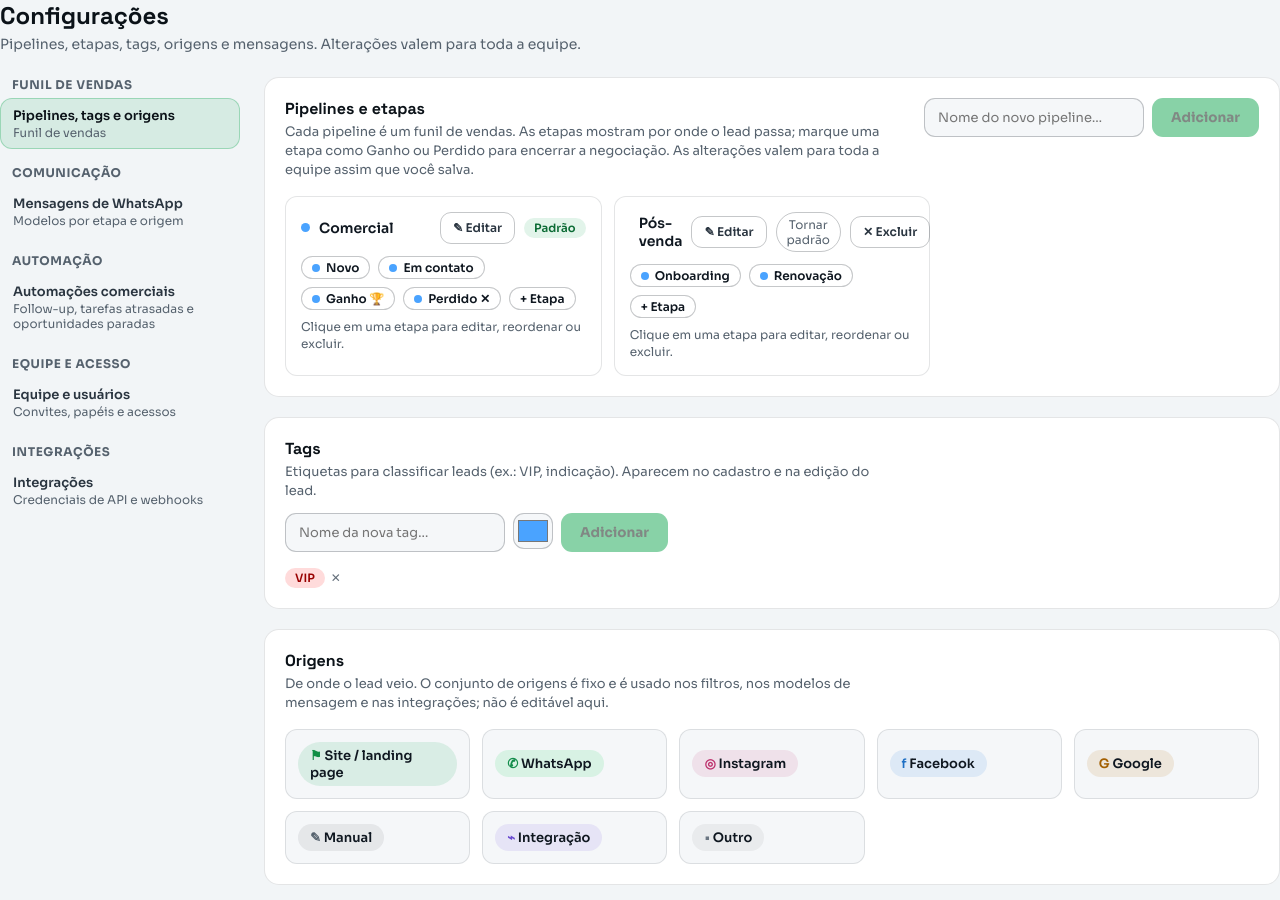
Test: F-25 etapas › etapa com leads: 409 do servidor vira toast com a orientação e nada é excluído da tela
Expected: the text "Comercial" is shown, [319,218,394,236]
Click the button "Novo" at (336,267), box [301,256,370,278]
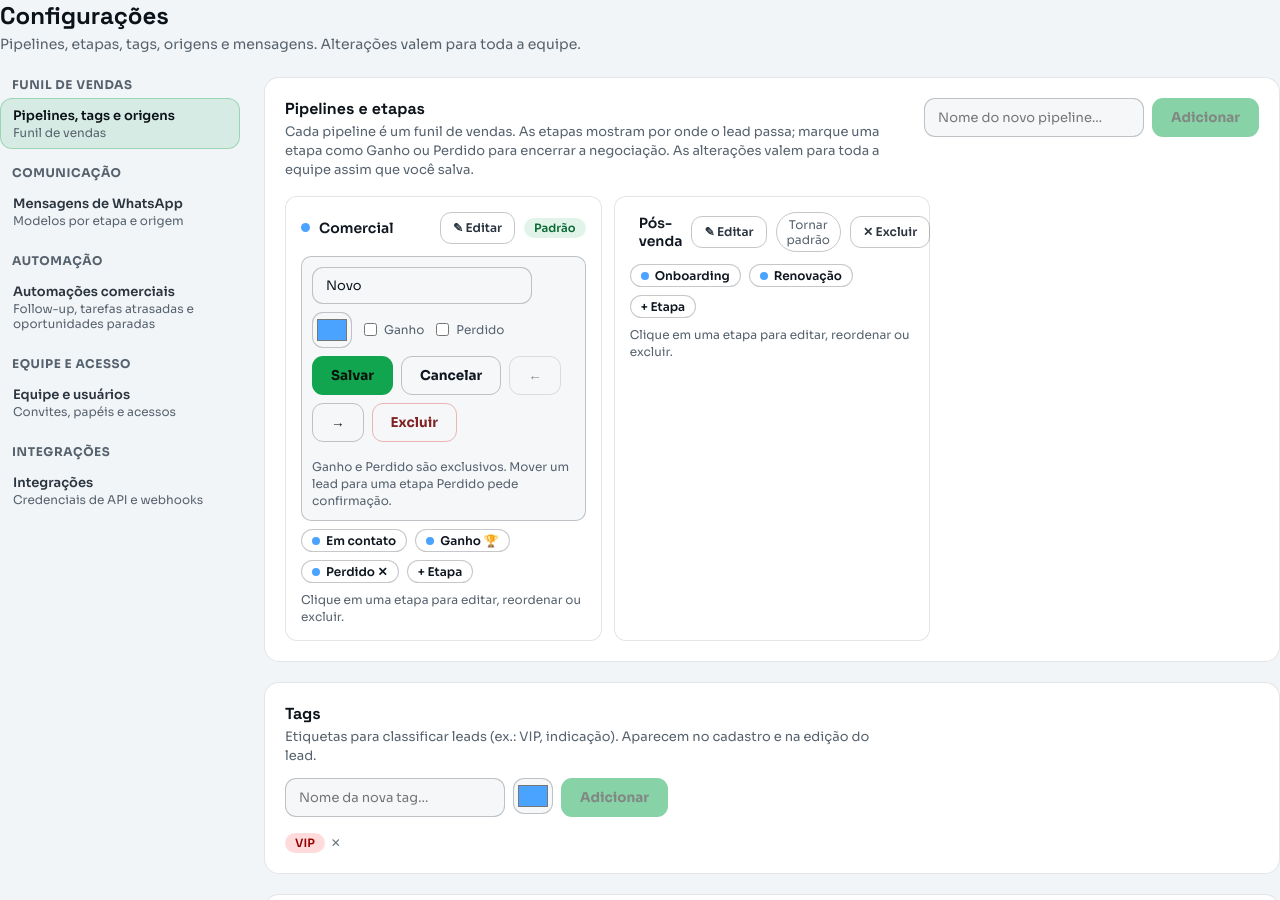
Click the button "Excluir" at (414,422), box [372,402,457,442]
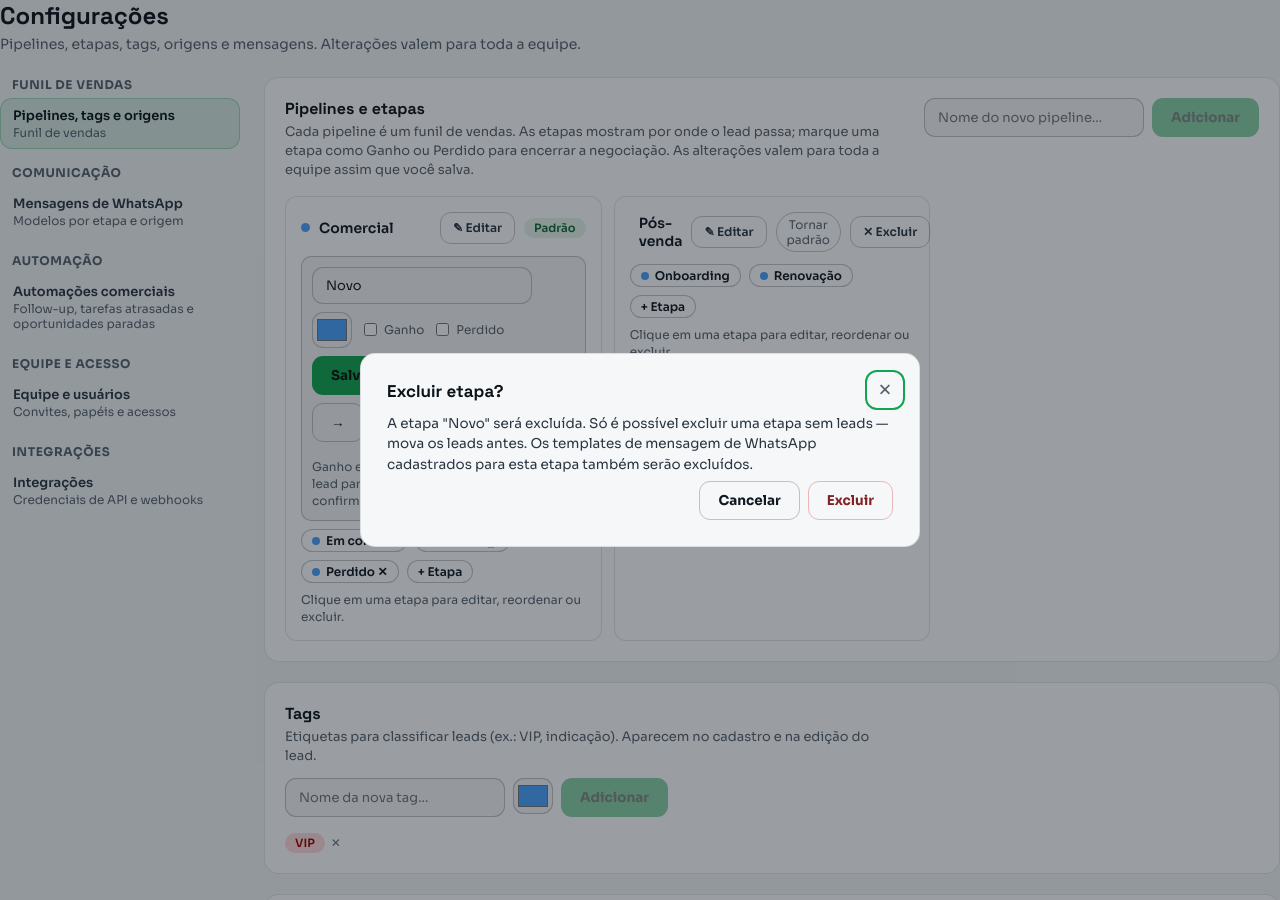
Click the button "Excluir" at (850,500), box [808,481,893,520]
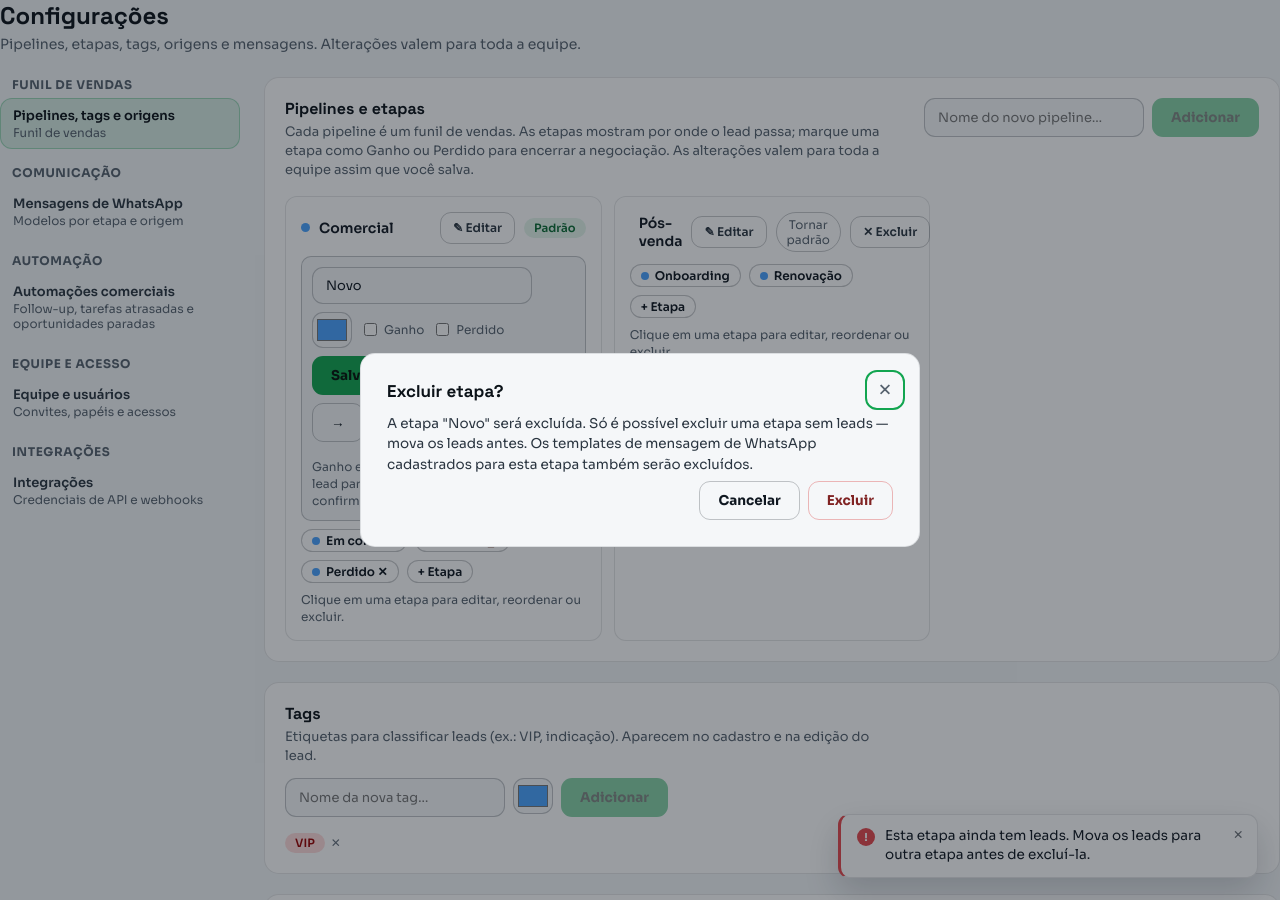
Expected: the text "ainda tem leads" is shown, [885,827,1201,863]
